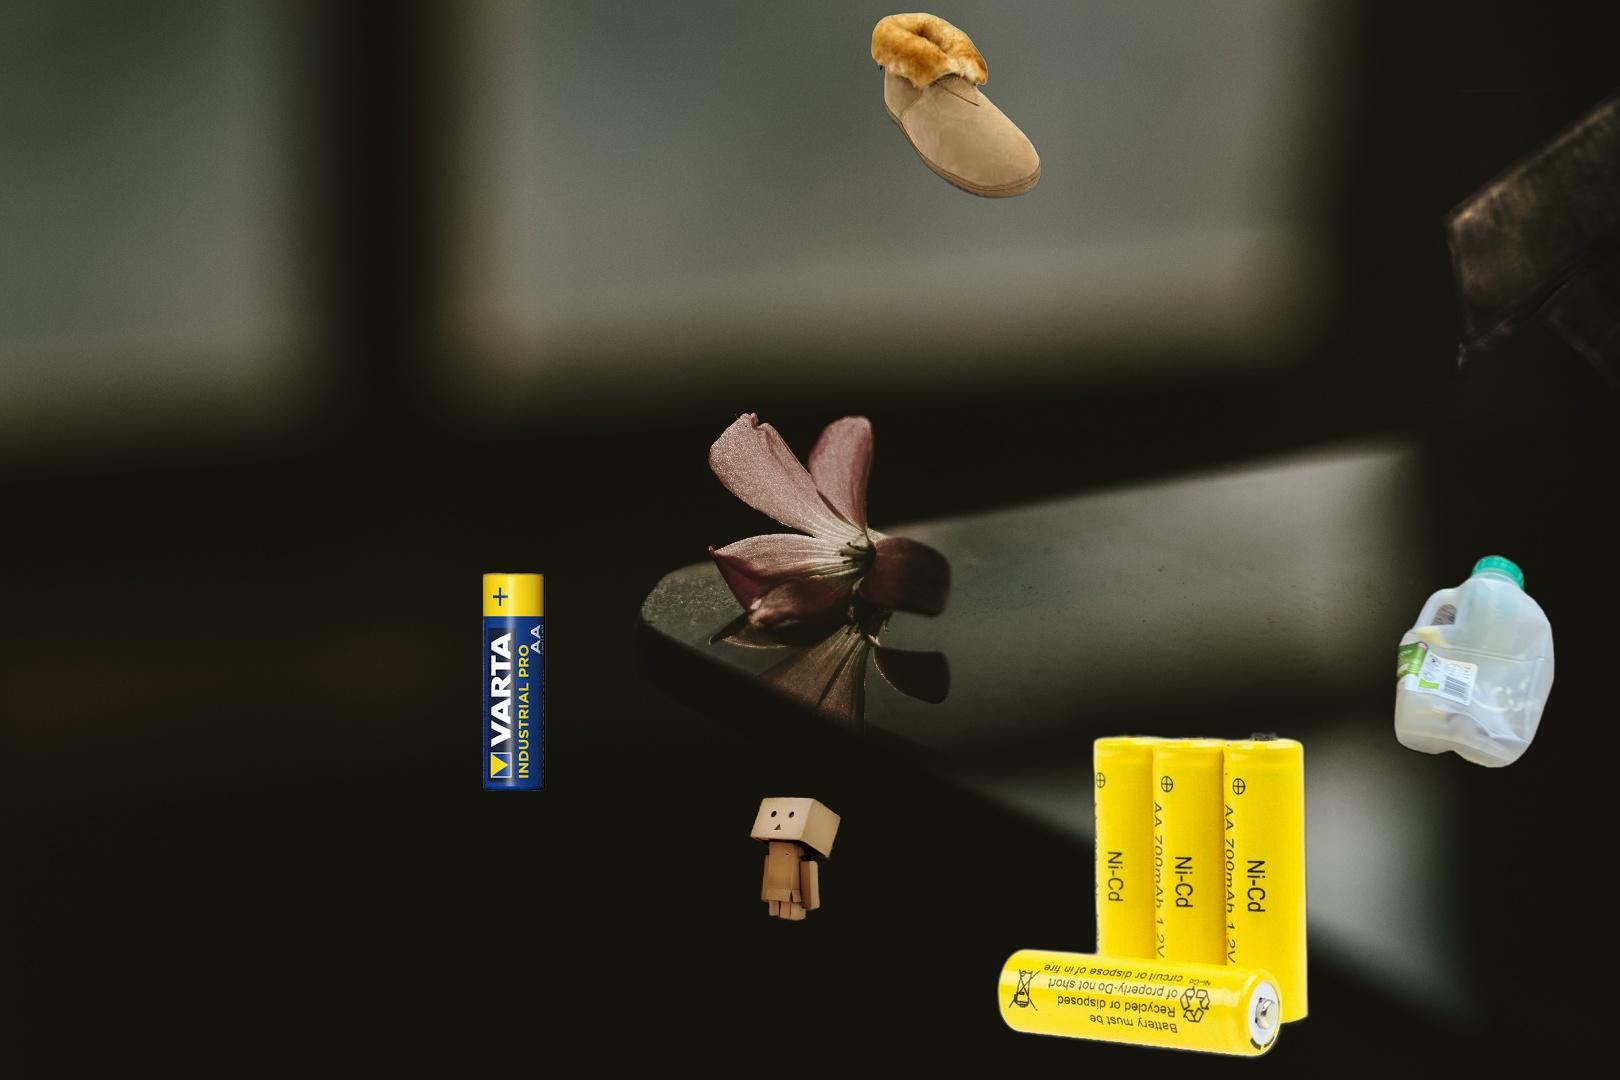battery: (992, 726, 1314, 1064), (480, 567, 548, 792)
plastic-bottles: (1389, 550, 1559, 774)
shoes: (868, 8, 1044, 201)
trashbox-cardboard: (1409, 86, 1620, 470), (745, 794, 846, 923)
